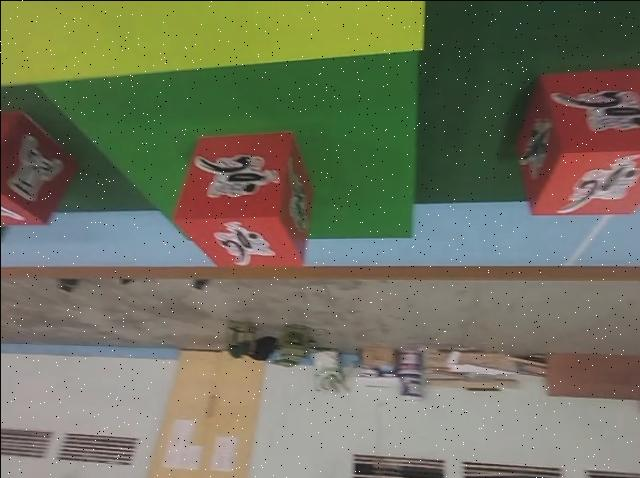R1: (172, 128, 313, 269), (513, 64, 640, 220)
R2 Real: (0, 109, 82, 231)
